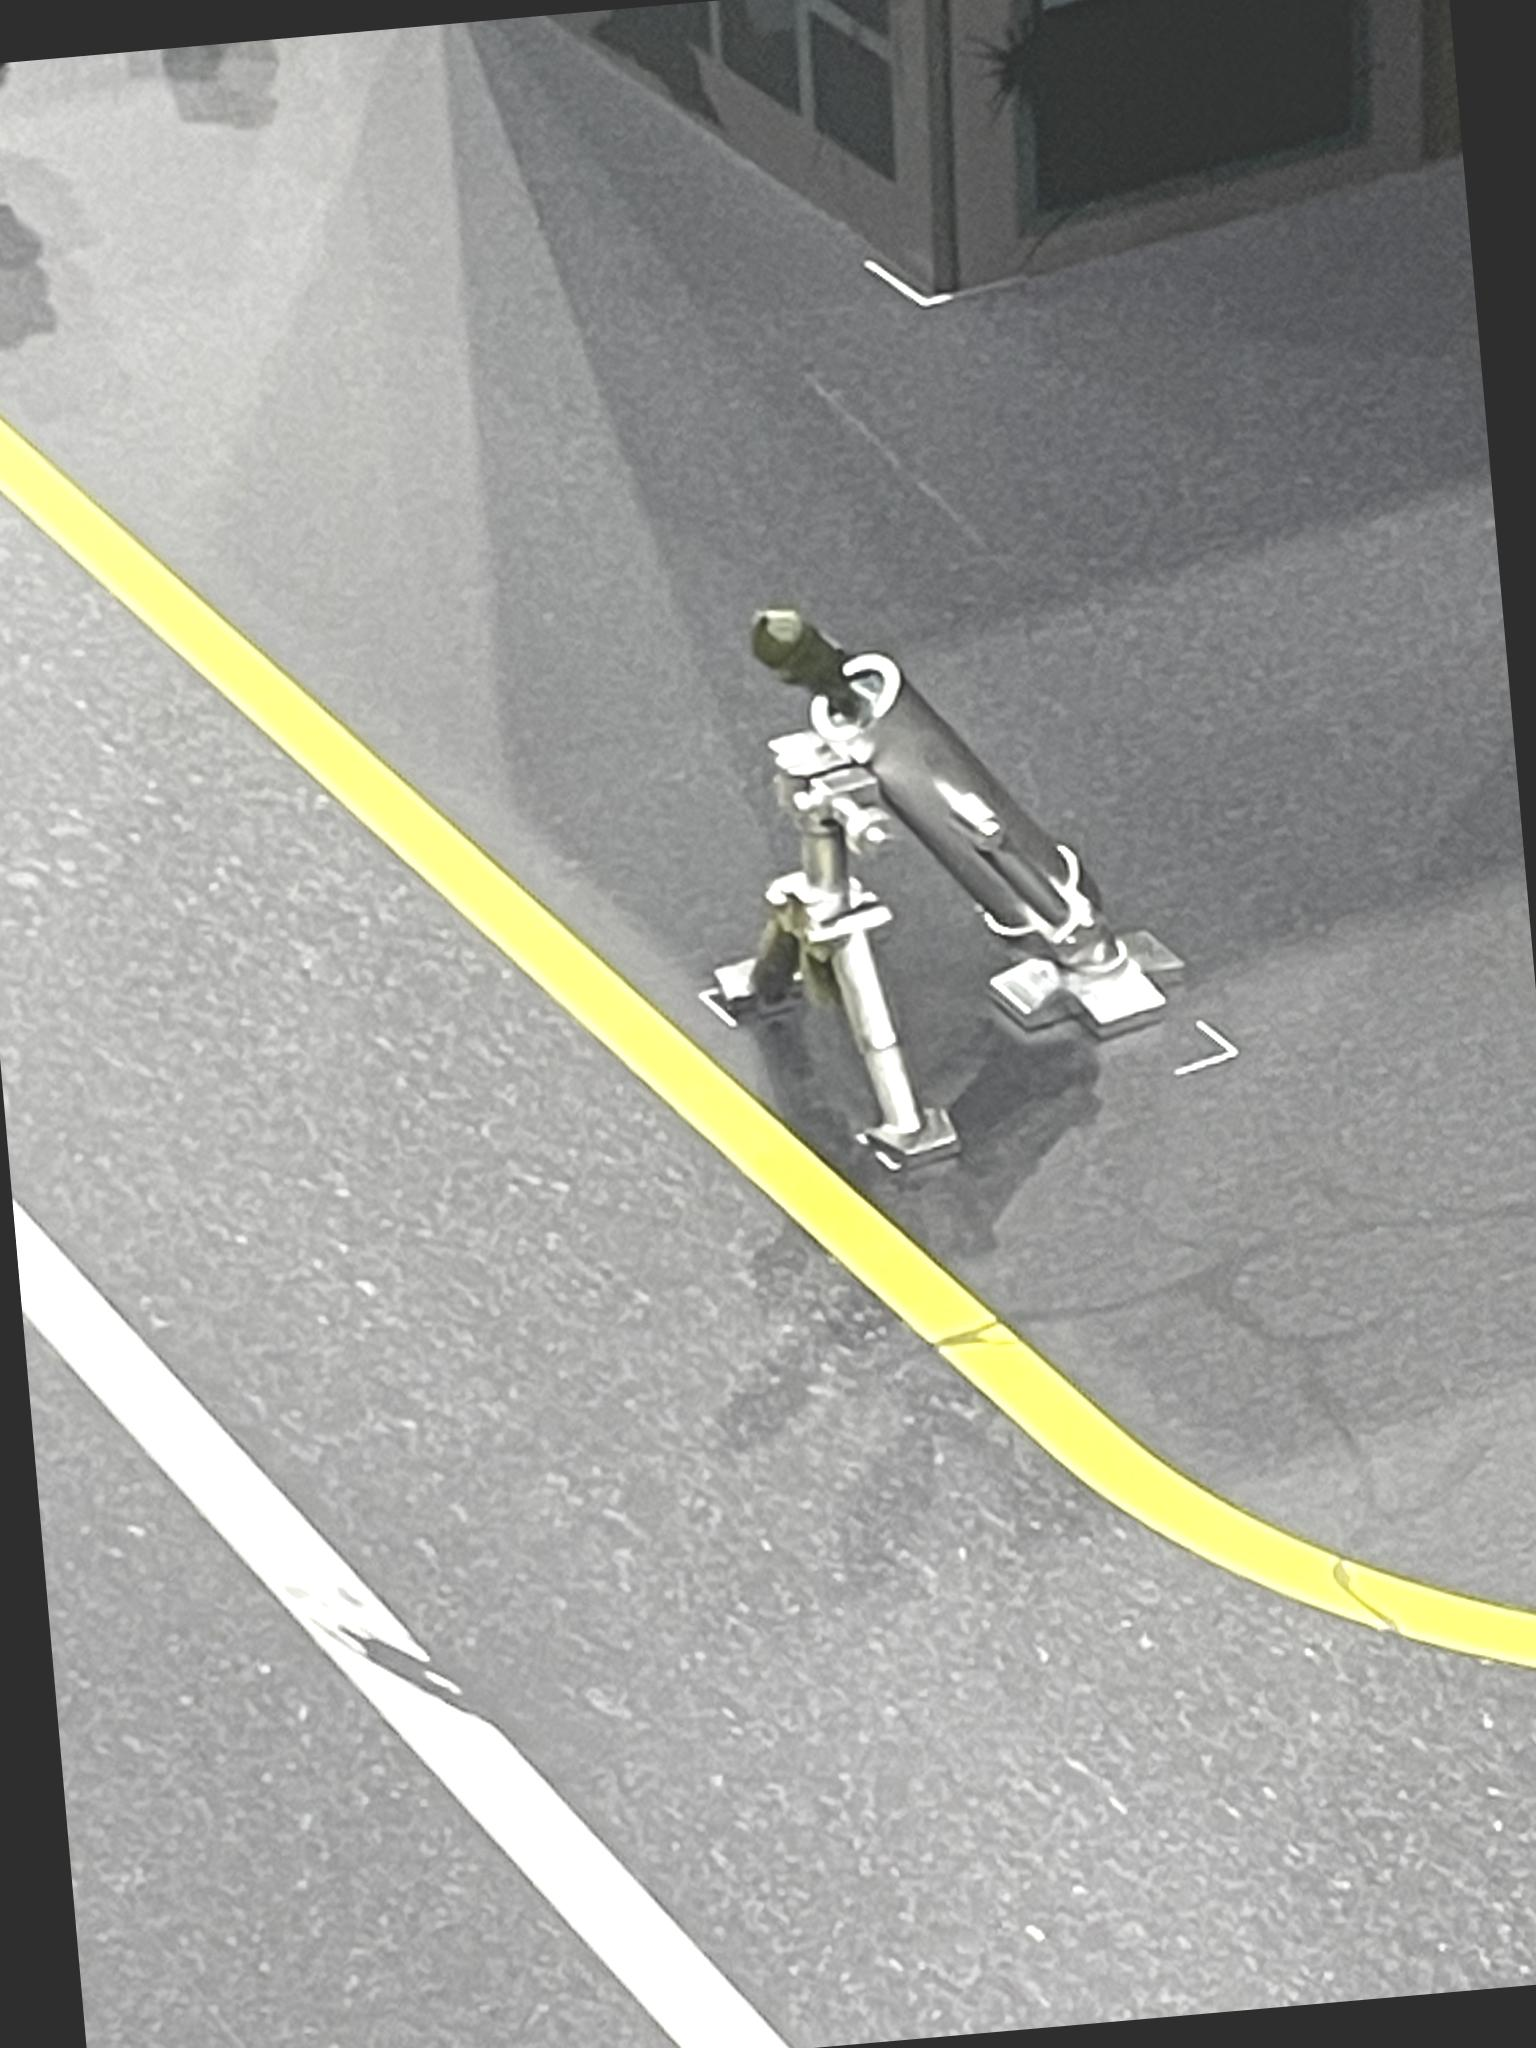Mortar: (663, 553, 1218, 1211)
